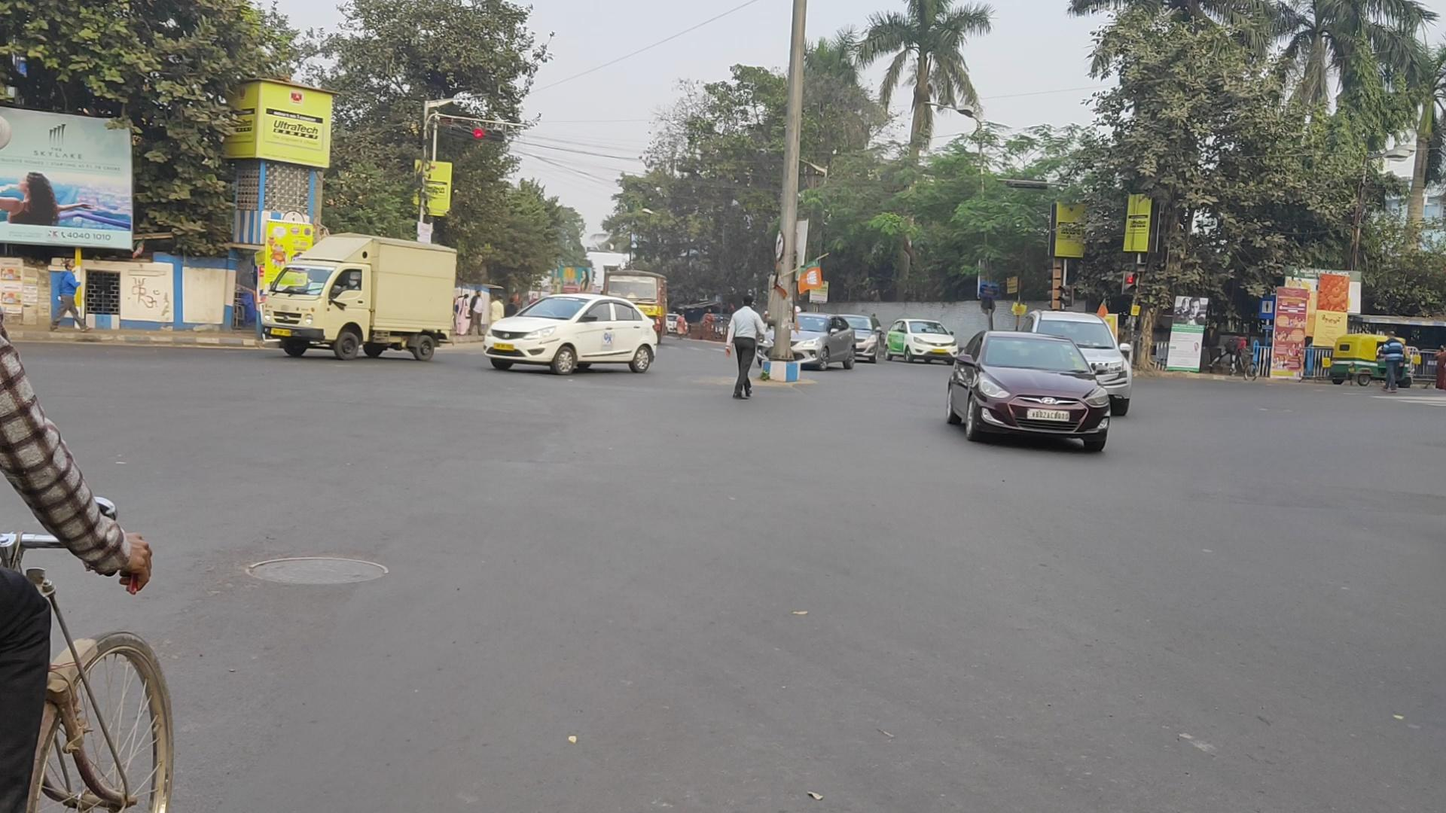Auto: (1330, 333, 1414, 388)
Bus: (601, 269, 667, 346)
car: (947, 330, 1109, 452), (484, 293, 657, 376), (1020, 309, 1131, 418), (757, 312, 856, 371), (884, 318, 958, 365), (836, 312, 882, 363)
van: (262, 233, 457, 361)
